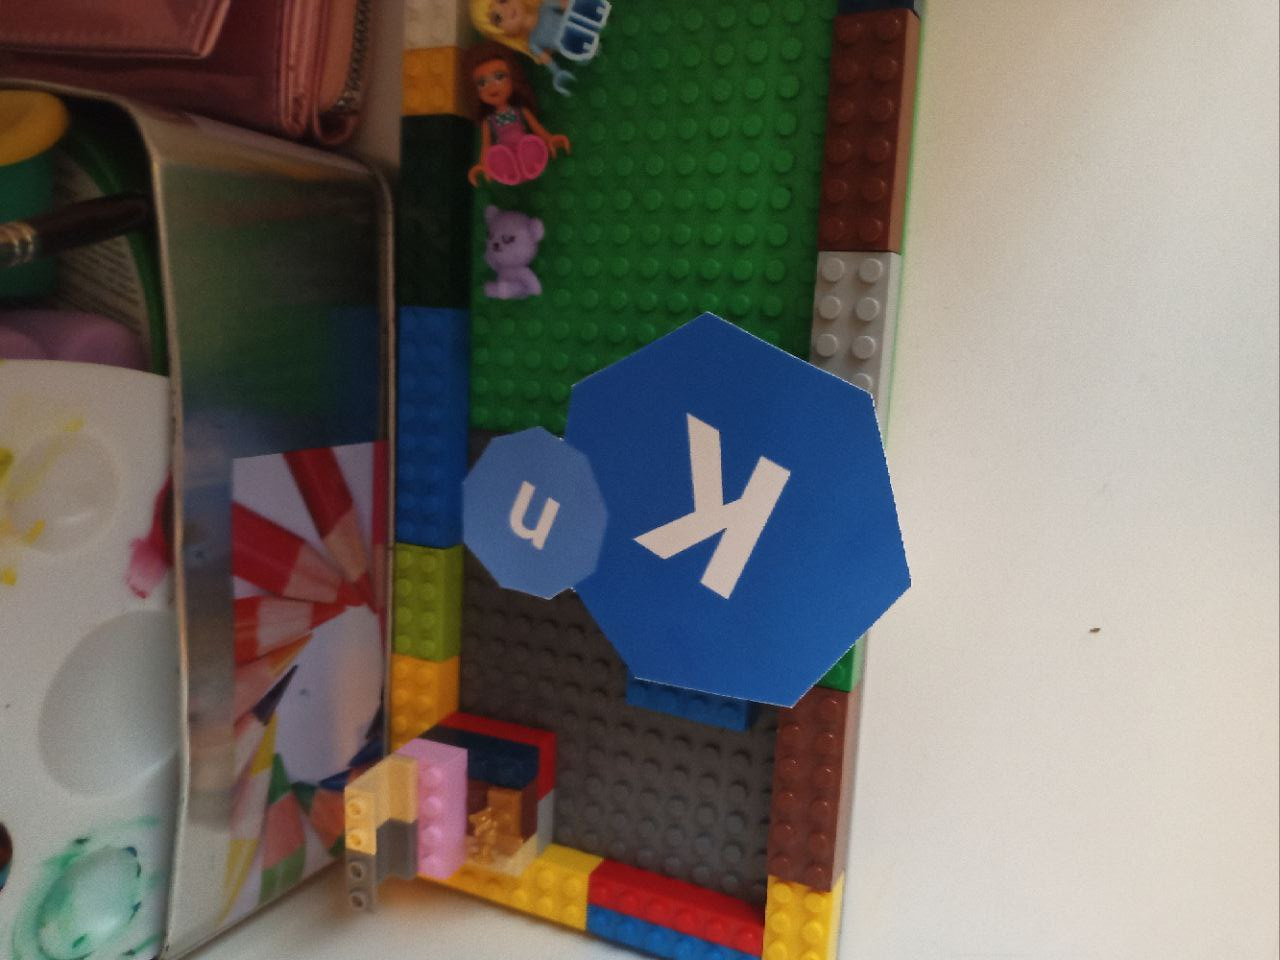knative: (461, 310, 915, 710)
